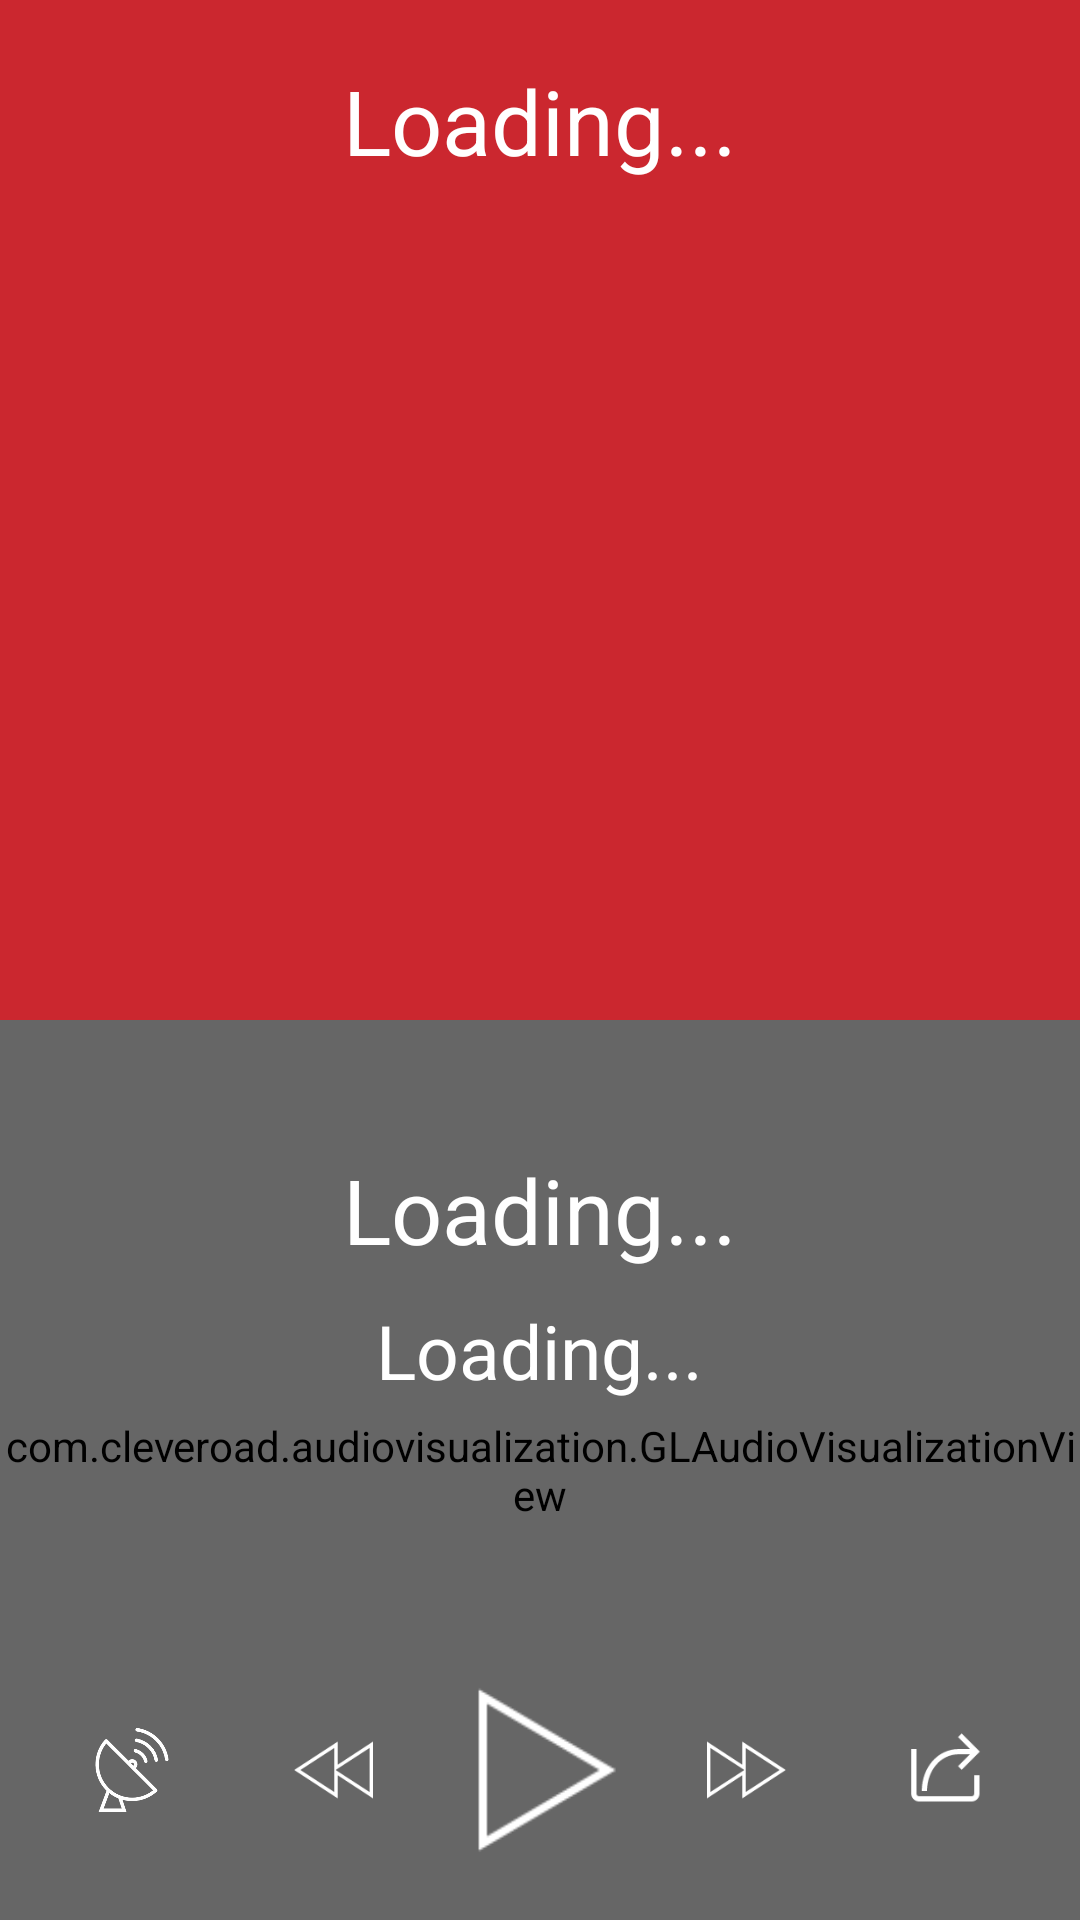

Locate icon controls on the screen. Image size 1080px x 1920px, boxes as (x1, y1, x2, y2).
forward: (707, 1741, 786, 1799)
play: (478, 1689, 616, 1851)
rewind: (294, 1741, 373, 1799)
share: (911, 1733, 980, 1802)
